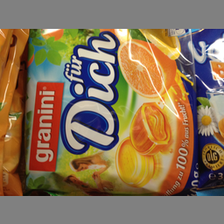candy: (27, 30, 201, 194)
